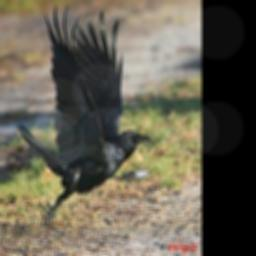Crow: (17, 1, 154, 231)
